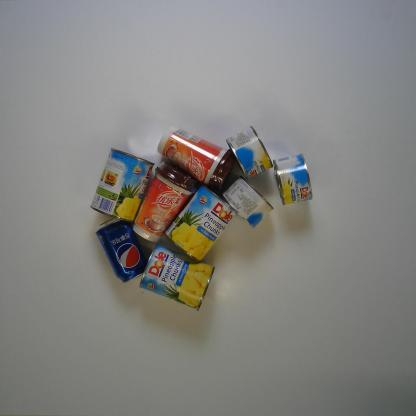Canned Food: (165, 184, 238, 262), (139, 244, 215, 311), (90, 148, 156, 223), (222, 175, 274, 229), (225, 126, 274, 180), (272, 152, 314, 206)
Drink: (96, 217, 148, 283)
Instant Drink: (132, 160, 199, 243), (157, 125, 236, 192)
